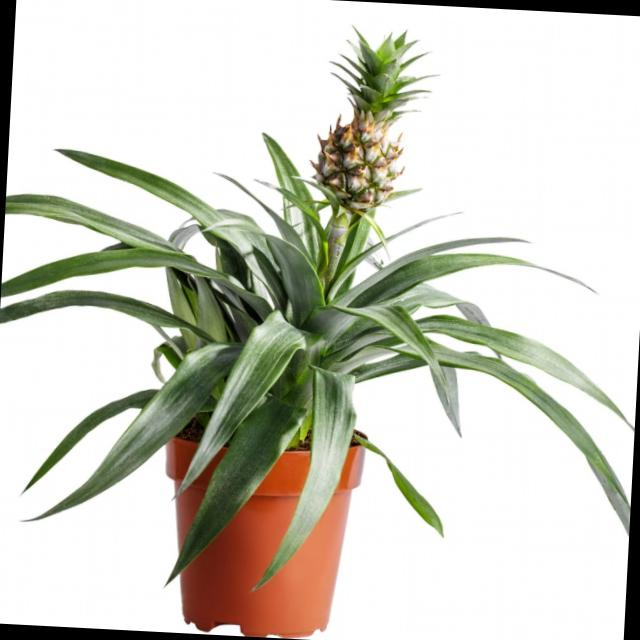Plants: (0, 46, 627, 625)
